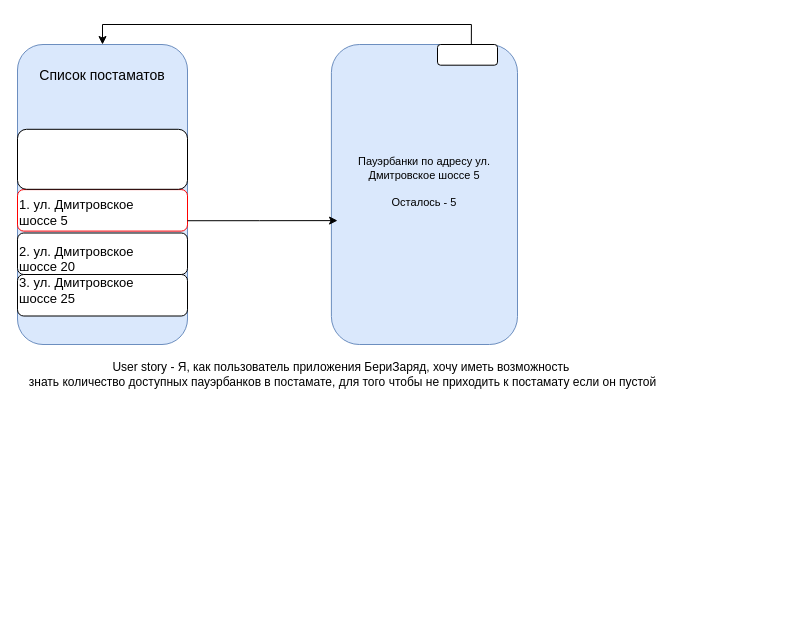
Image size: 785x632. Some labels were removed from this diagram. The centre of each missing label's shape, as x and y in pixels:
назад: [467,54]
Поиск: Дмитроввское шоссе: [102,158]
